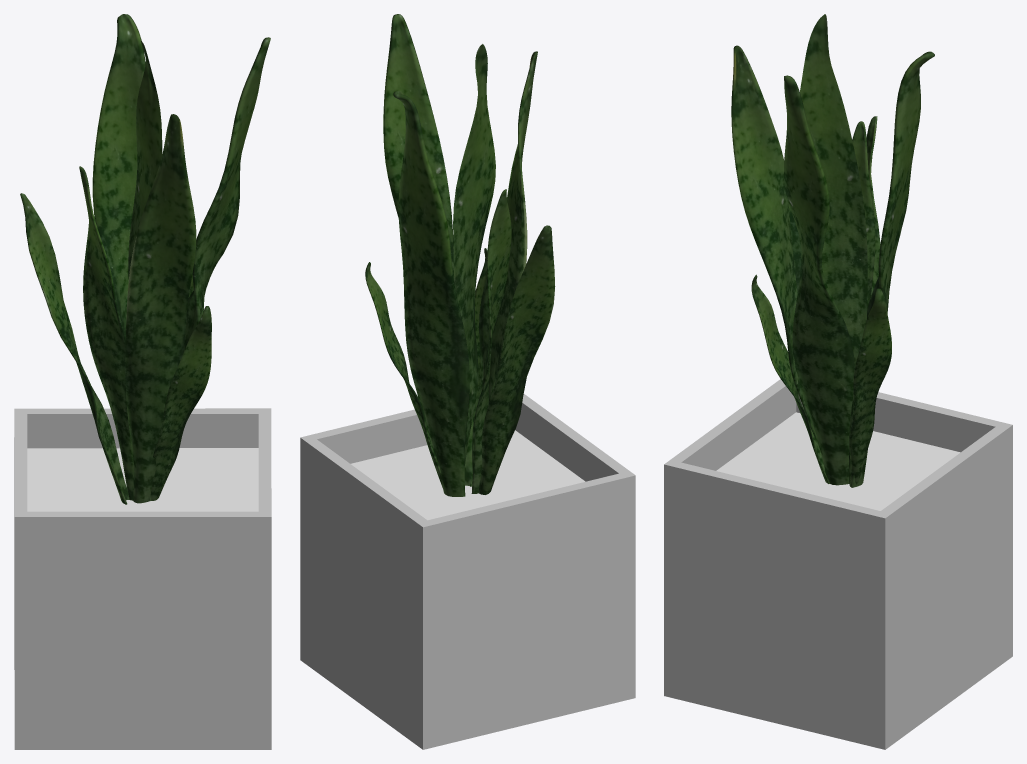
Rendered from pot.gltf.
The picture shows the model from 3 angles, left to right: view 1: azimuth 30°, elevation 25°; view 2: azimuth 150°, elevation 25°; view 3: azimuth 270°, elevation 25°; orthographic projection. The views are drawn at different scales.
Parts seen in each view (by area): view 1: pot; view 2: pot; view 3: pot.
Part boxes in pixels (<box>): pot: <box>14,14,271,749</box>; pot: <box>300,14,635,749</box>; pot: <box>664,14,1012,749</box>.
Size of the model in its own units: 2.73 by 5.68 by 2.73.
